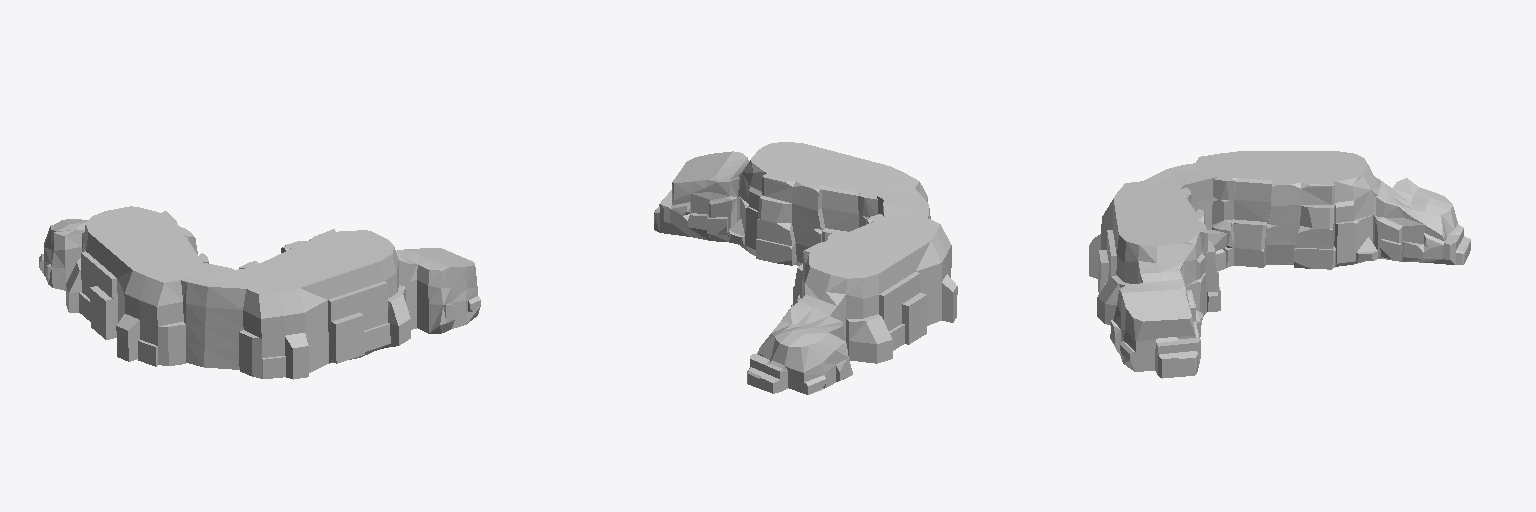
Rendered from platforma_3.3.obj.
3 views of the same model, side by side, from view 1: azimuth 30°, elevation 25°; view 2: azimuth 150°, elevation 25°; view 3: azimuth 270°, elevation 25° (orthographic).
Visible parts, largest first — view 1: Cube.003; view 2: Cube.003; view 3: Cube.003.
Part boxes in pixels (x1,y1,x2,y2): Cube.003: (39,206,480,379); Cube.003: (654,142,957,394); Cube.003: (1089,151,1470,378).
Bounding box in the file's own units: 81.05 × 21.27 × 82.69.